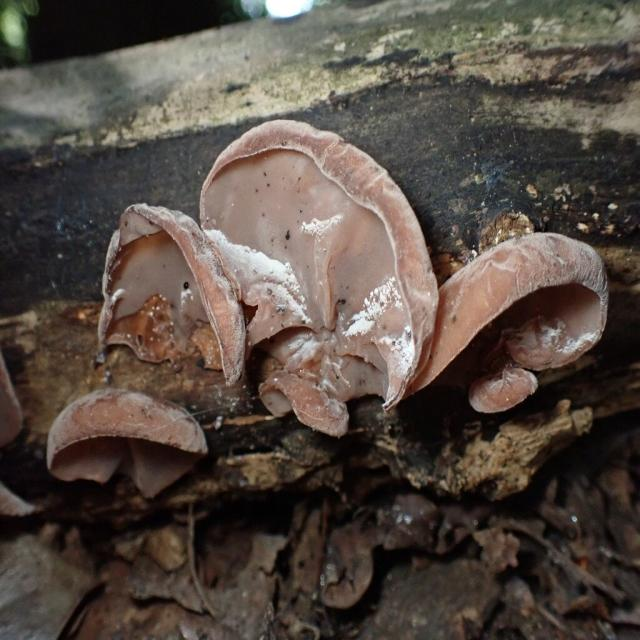Matang: (198, 115, 443, 419), (414, 228, 616, 412), (90, 199, 248, 393), (41, 384, 211, 500), (255, 369, 354, 448), (465, 363, 543, 419)
